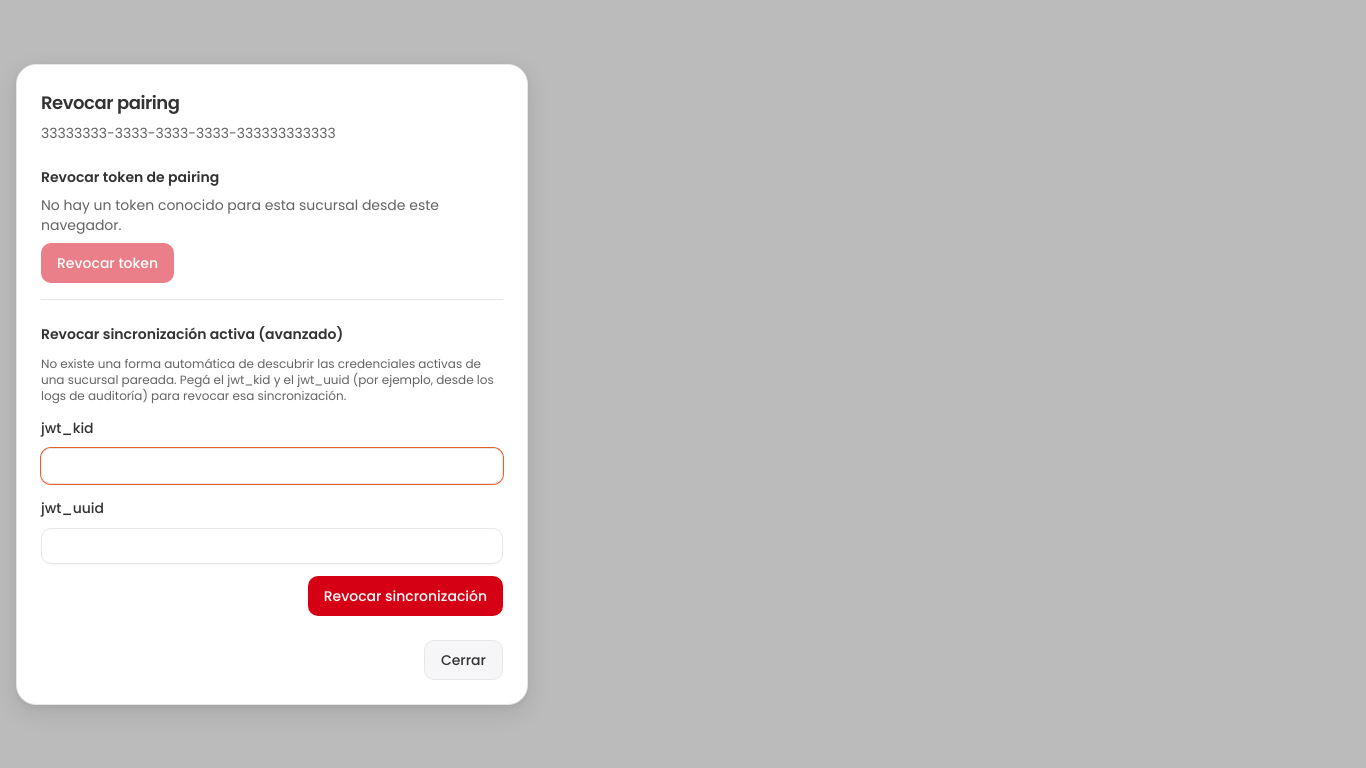
Scenario: RevocarPairingModal › revoke-sync form validates required fields and does not submit when empty
Step 1. Click the button with test id "revocar-pairing-sync-submit" → [405, 596], box [308,576,503,616]
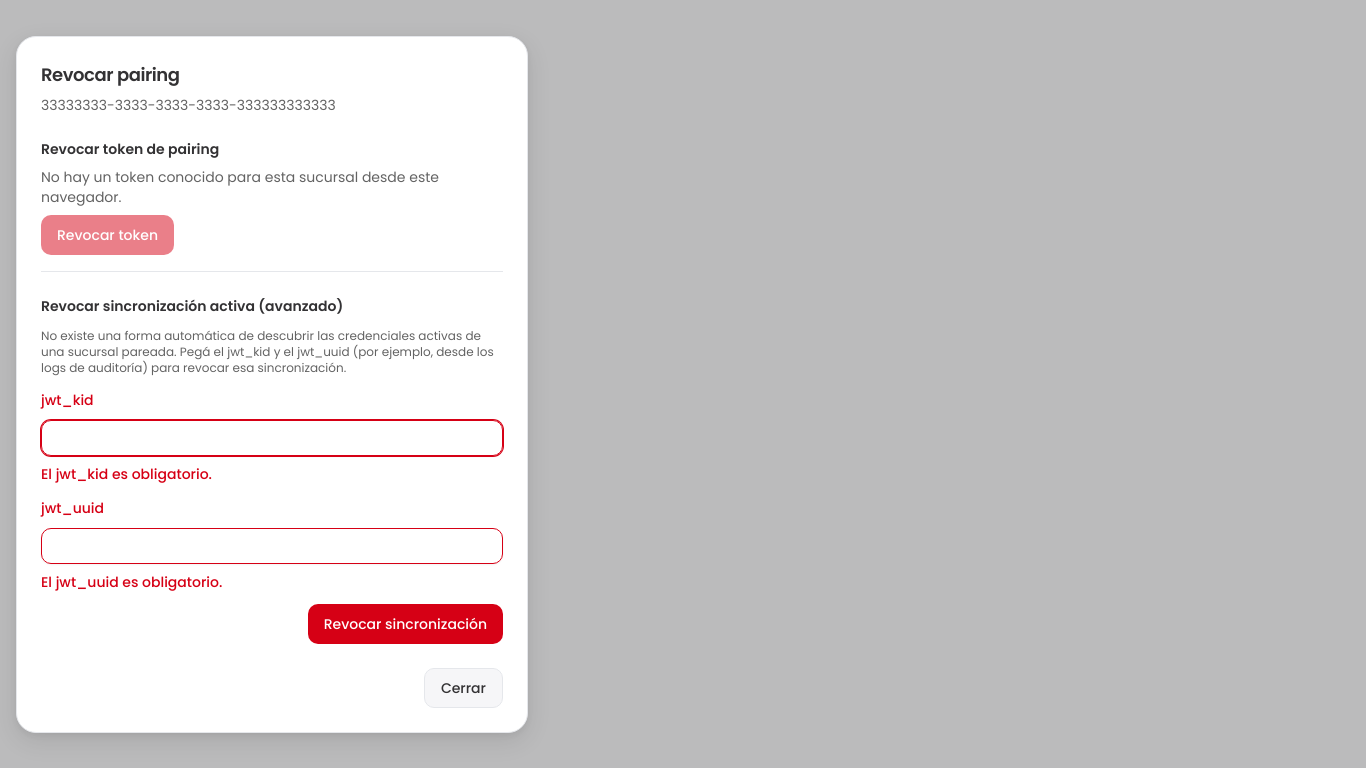
Now the message "El jwt_kid es obligatorio." is shown, box [41,464,212,484]
